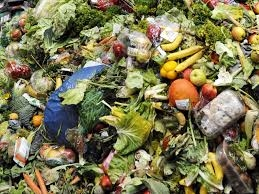kitchen_waste: (27, 1, 126, 54), (97, 104, 156, 155), (190, 150, 230, 193), (165, 75, 204, 116), (165, 43, 210, 74), (166, 78, 201, 113), (19, 165, 53, 194), (156, 30, 196, 51), (158, 58, 183, 79), (95, 174, 121, 192), (186, 67, 208, 87), (199, 80, 219, 101)
plastic: (35, 62, 108, 147)
